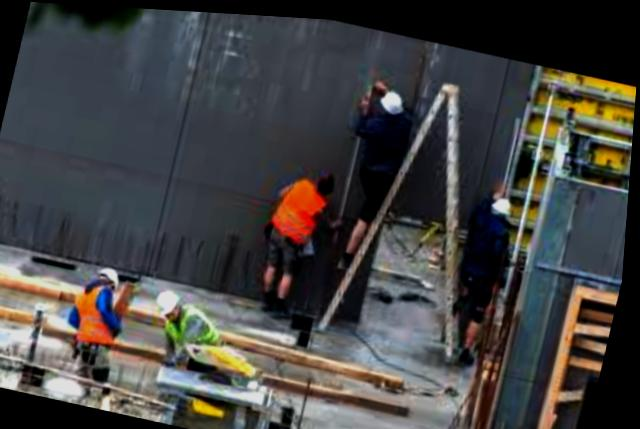helmet: (374, 77, 416, 114), (147, 281, 187, 319), (491, 183, 527, 216), (93, 258, 129, 289)
vest: (260, 162, 336, 245), (65, 277, 142, 356), (162, 295, 234, 361)
